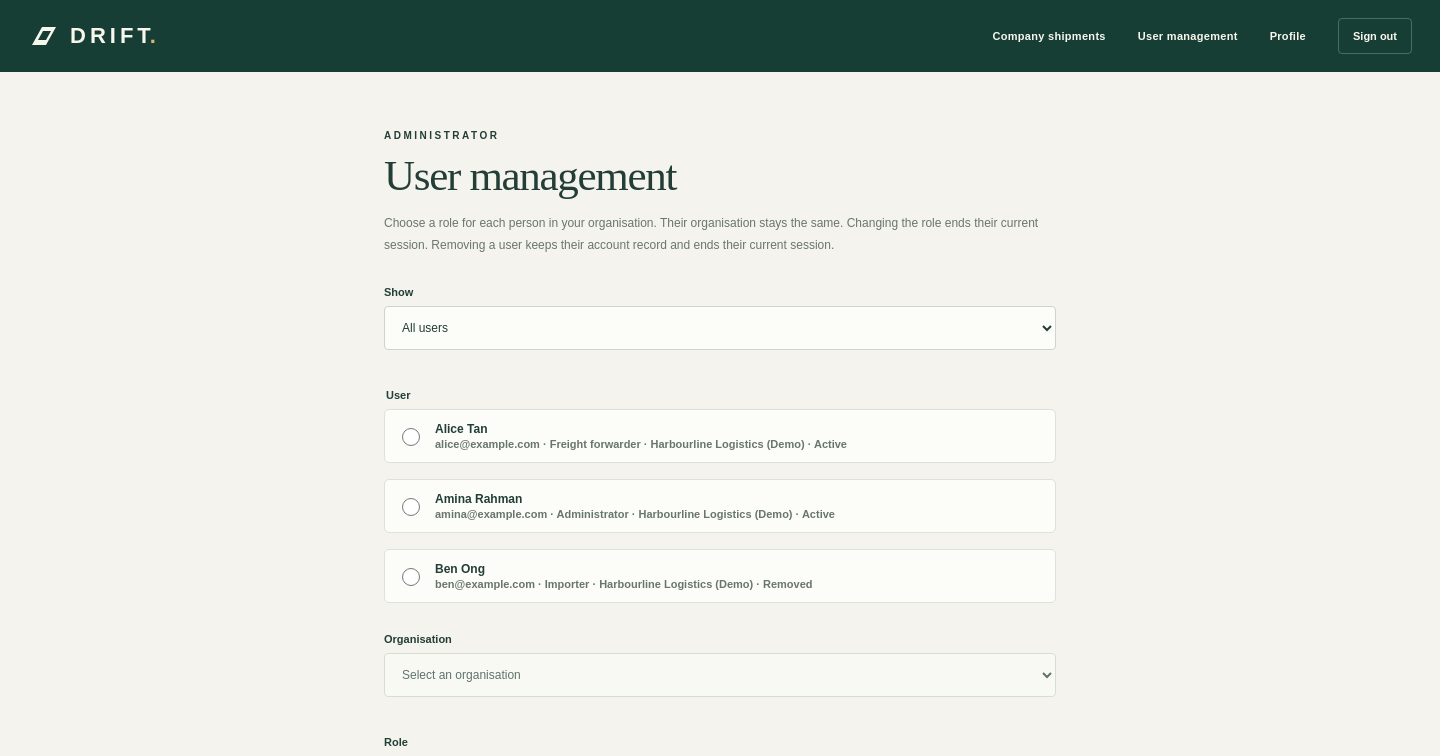
Test: account removal › shows each user status and filters the list by status
This screenshot has width=1440, height=756.
Expected: the 1st radio button is shown, [402,428,420,446]
Expected: the 3rd radio button is shown, [402,568,420,586]
Select "Removed" in the dropdown labelled "Show": (720, 328) [384,306,1056,350]
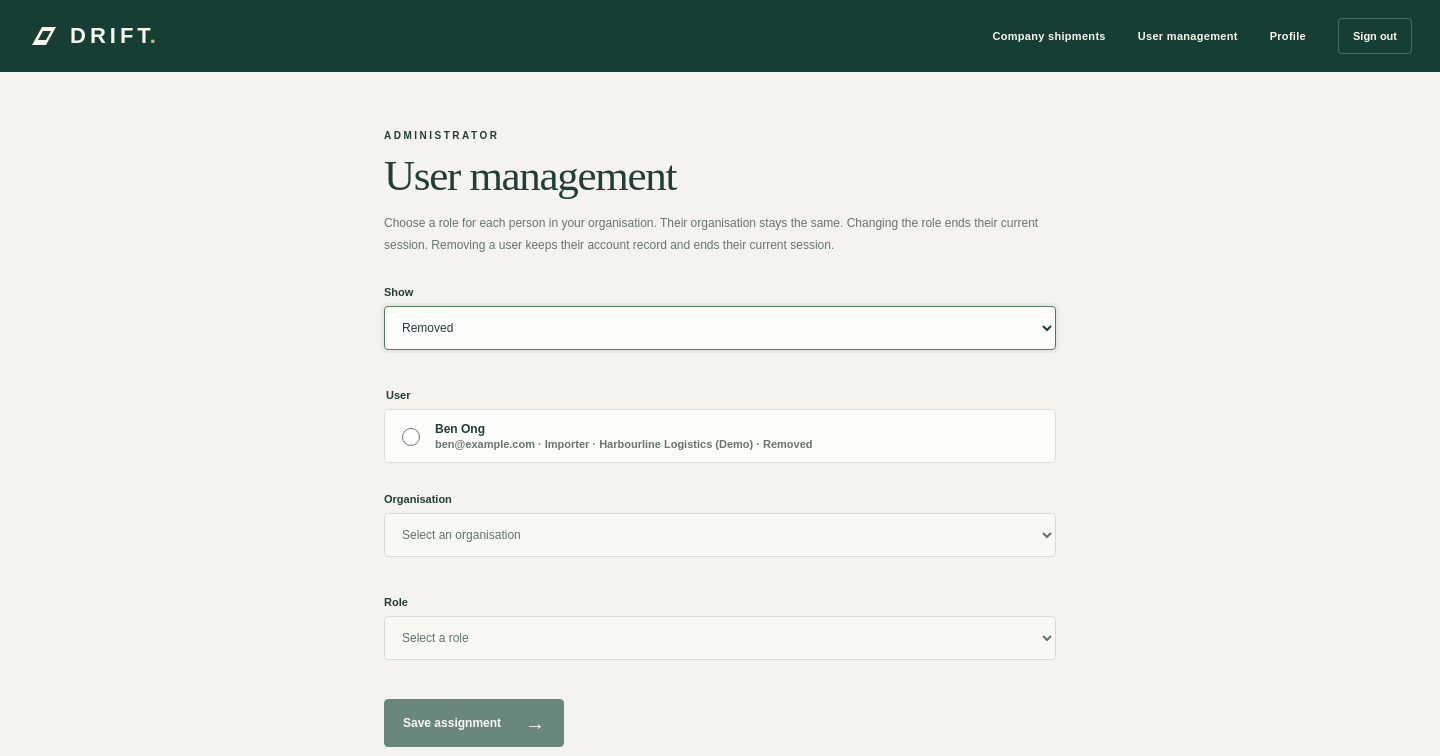
Expected: the radio button labelled "Ben Ong" is shown, [402,428,420,446]
Now the text "Alice Tan" is gone
Now the text "Amina Rahman" is gone
Select "Active" in the dropdown labelled "Show": (720, 328) [384,306,1056,350]
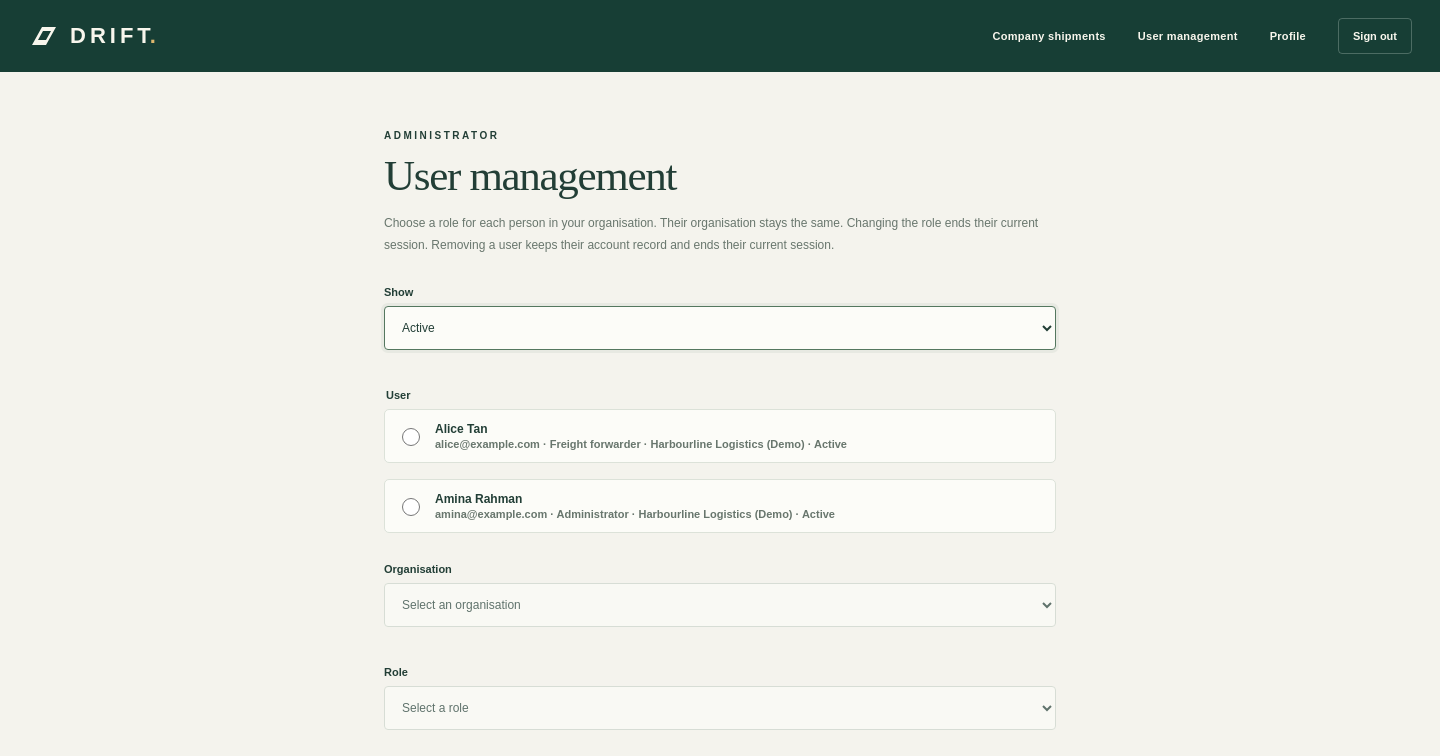
Expected: the radio button labelled "Alice Tan" is shown, [402,428,420,446]
Now the text "Ben Ong" is gone
Select "All users" in the dropdown labelled "Show": (720, 328) [384,306,1056,350]
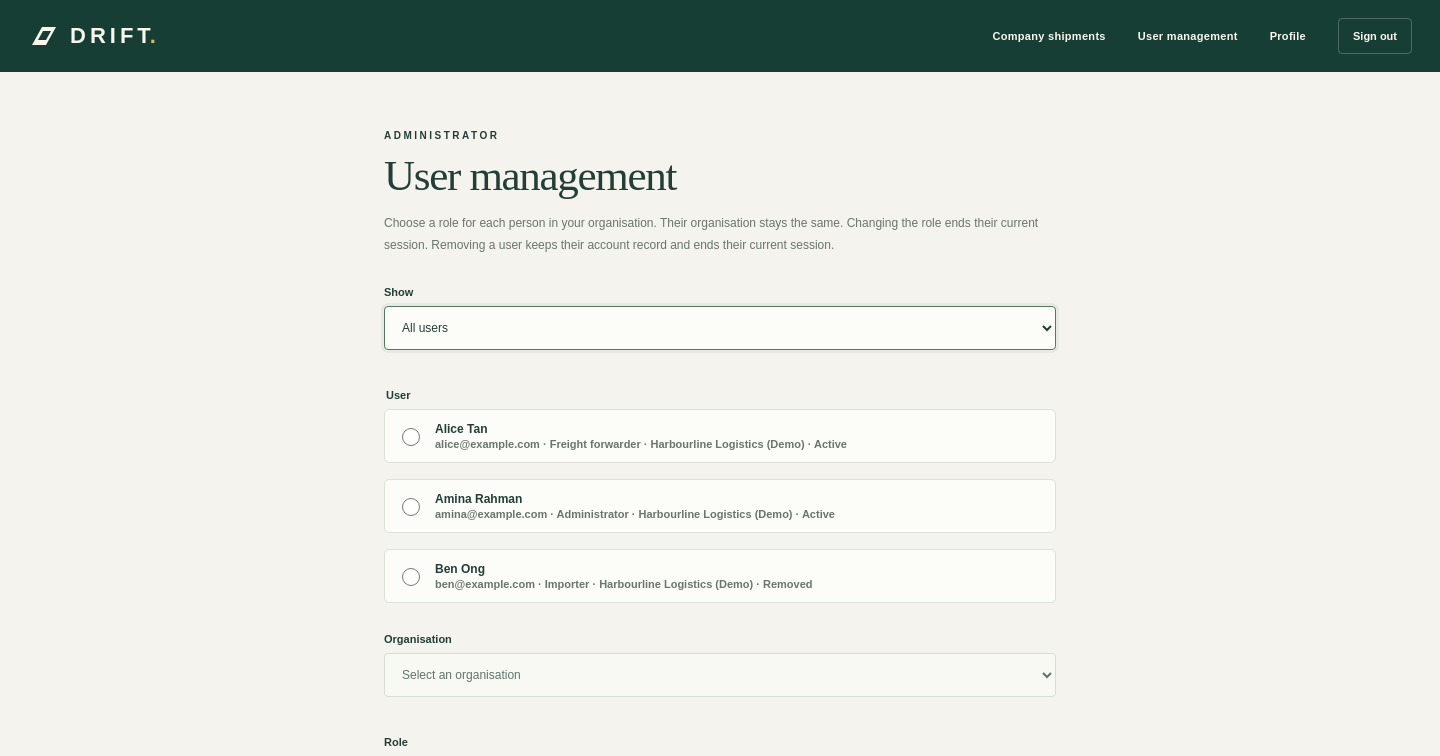
Now the number of radio buttons is 3, box [402,428,420,446]; [402,498,420,516]; [402,568,420,586]
